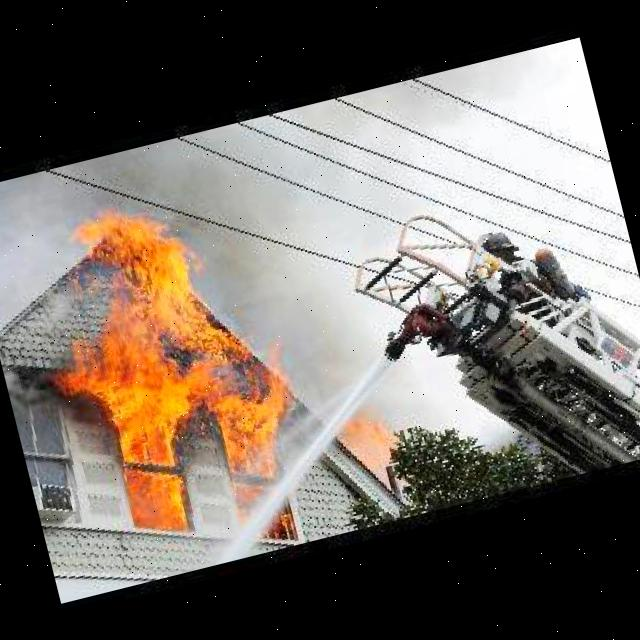fire: (15, 175, 306, 550)
